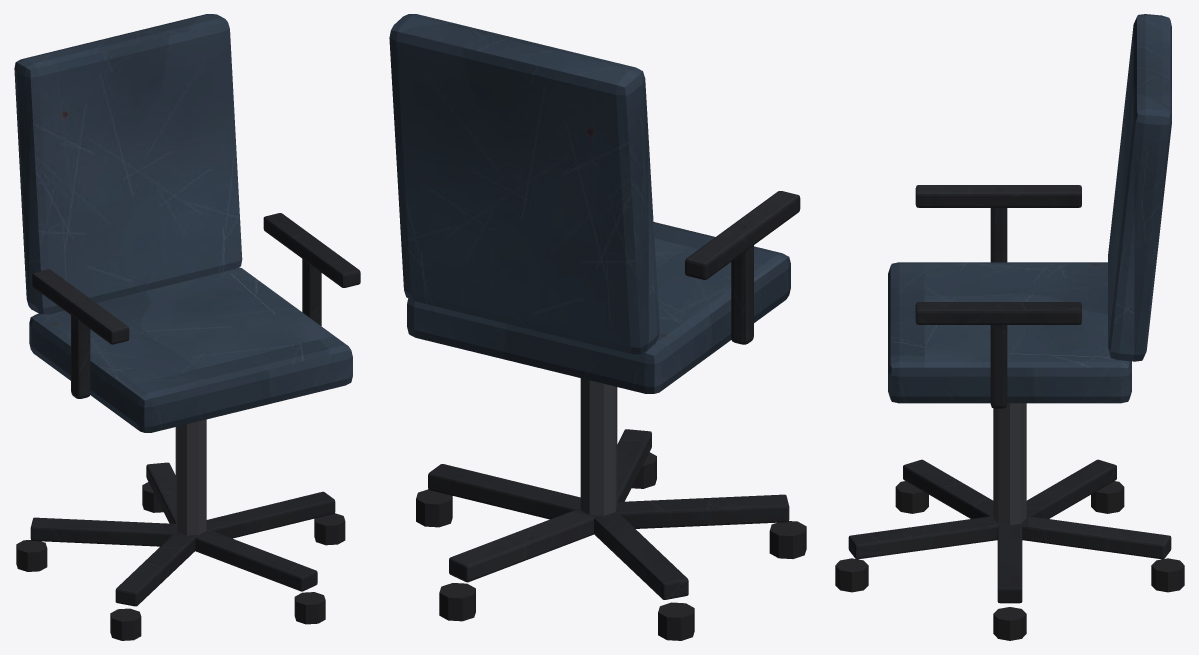
Rendered from chair_office.glb.
The picture shows the model from 3 angles, left to right: view 1: azimuth 30°, elevation 25°; view 2: azimuth 150°, elevation 25°; view 3: azimuth 270°, elevation 25°; orthographic projection. The views are drawn at different scales.
Visible parts, largest first — view 1: body; view 2: body; view 3: body.
Part boxes in pixels (<box>): body: <box>14,14,360,640</box>; body: <box>389,14,806,640</box>; body: <box>835,14,1184,640</box>.
Size of the model in its own units: 0.6027 by 0.999 by 0.6306.
Materials: 4 (4 with a texture image).
